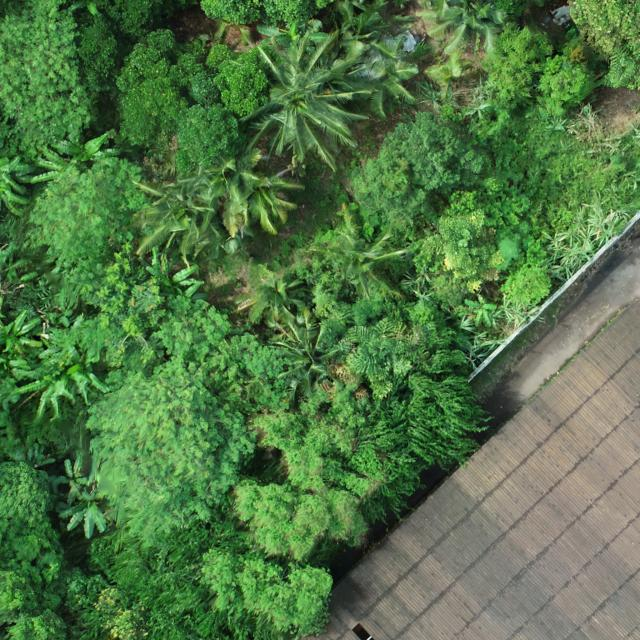banana_tree2: (8, 357, 110, 424), (30, 129, 124, 185), (145, 246, 205, 300), (0, 145, 38, 218), (56, 496, 110, 540), (52, 456, 96, 506), (0, 309, 42, 358), (8, 438, 57, 470)
tree: (86, 360, 255, 542), (232, 391, 374, 558), (339, 376, 489, 528), (240, 26, 376, 172), (350, 107, 488, 233), (22, 156, 148, 284), (316, 296, 471, 400), (0, 0, 95, 161), (164, 145, 304, 239), (198, 544, 336, 638), (114, 27, 208, 162), (479, 22, 600, 118), (305, 201, 415, 301), (128, 178, 226, 269), (264, 306, 352, 399), (0, 520, 64, 640), (549, 190, 629, 282), (338, 32, 419, 119), (450, 291, 537, 370), (566, 0, 639, 90), (206, 40, 284, 118), (173, 101, 244, 177), (233, 263, 310, 331), (0, 458, 54, 529)
